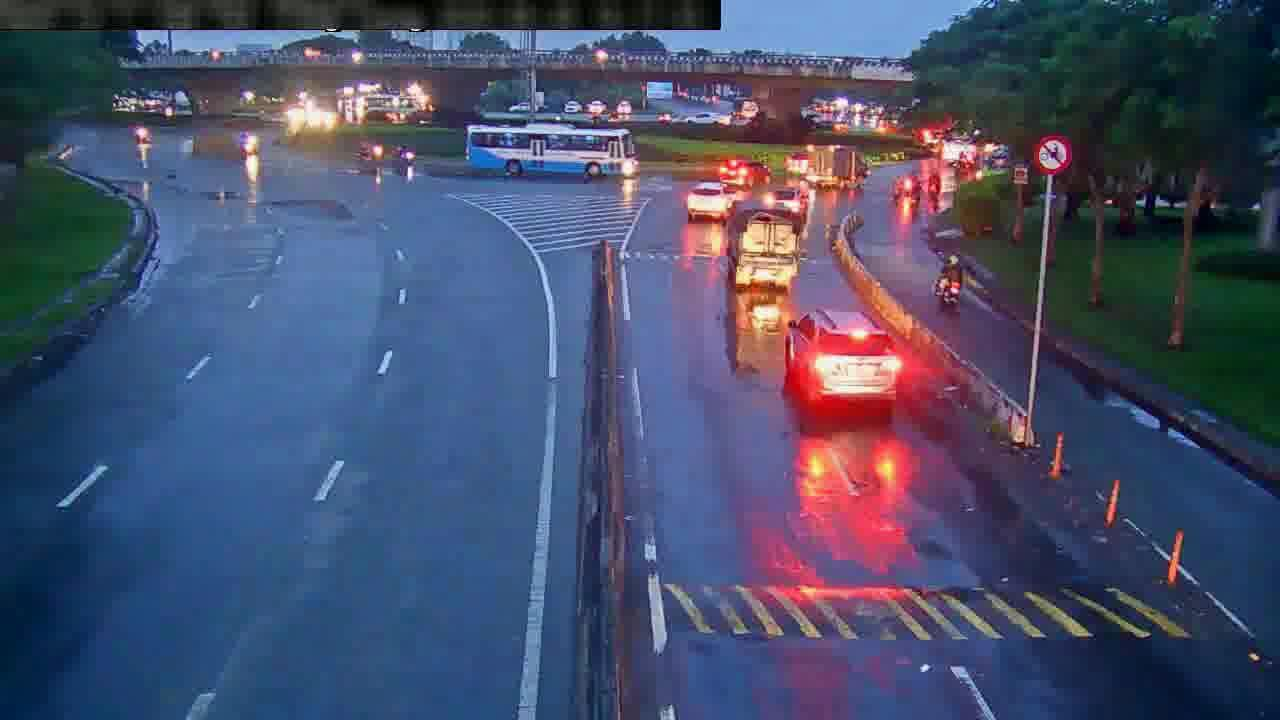14: (465, 120, 639, 184)
8: (731, 208, 801, 294), (802, 142, 869, 189)
container: (784, 308, 896, 413), (686, 180, 735, 223), (718, 157, 774, 190), (767, 185, 808, 223)
motorbike: (933, 252, 962, 312)
